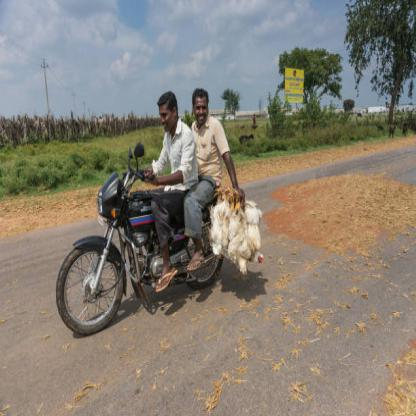Motorcycle: (55, 171, 222, 335)
